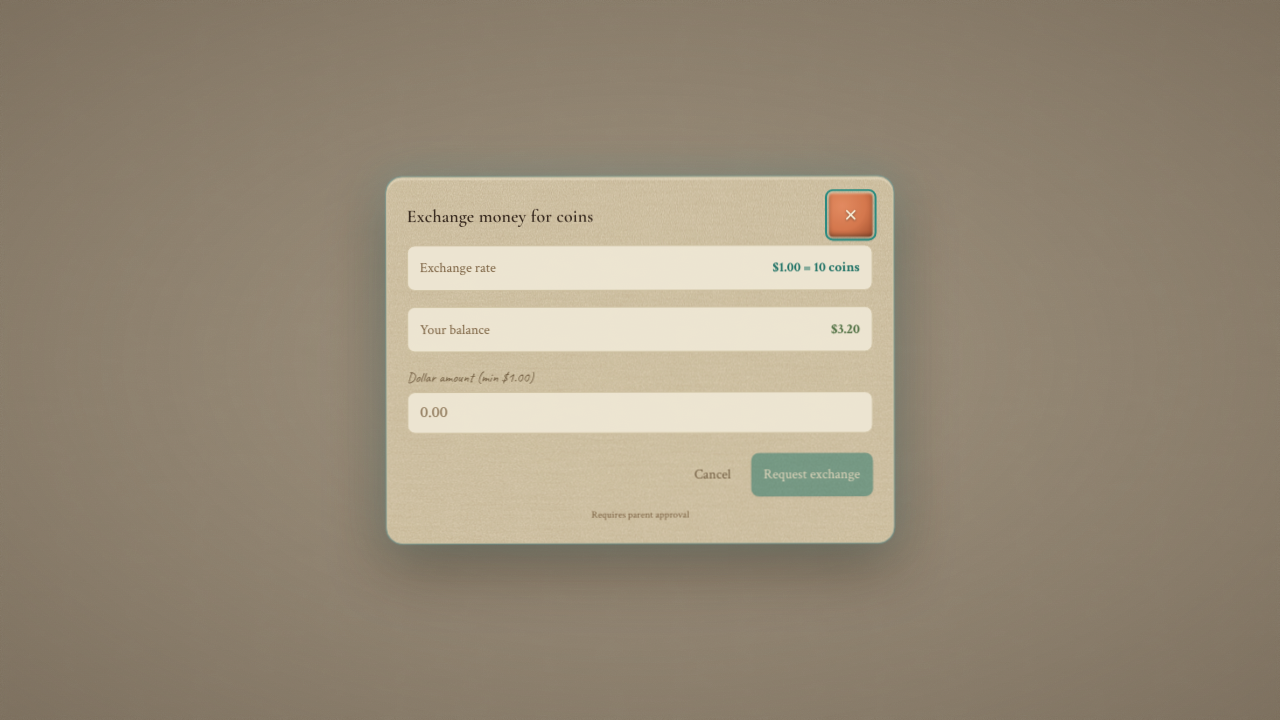
Scenario: CoinExchangeModal › explains why the request button is disabled
Expected: the text "$3.20" is shown, [831,319,860,339]
In the number field: x=640, y=413 [407,391,873,434], type "9"
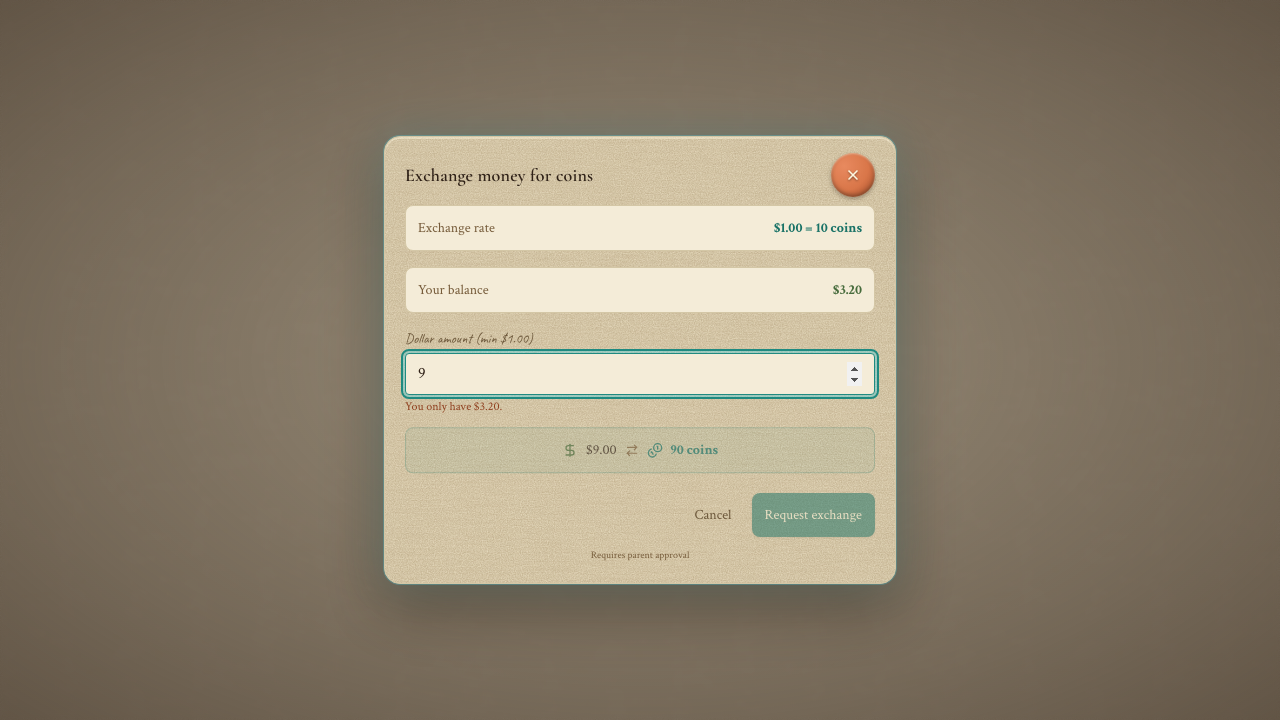
Expected: the button "Request exchange" is disabled, [752,493,875,537]
Expected: the text "You only have $3.20." is shown, [405,399,502,414]
Clear the number field: x=640, y=374 [405,353,875,395]
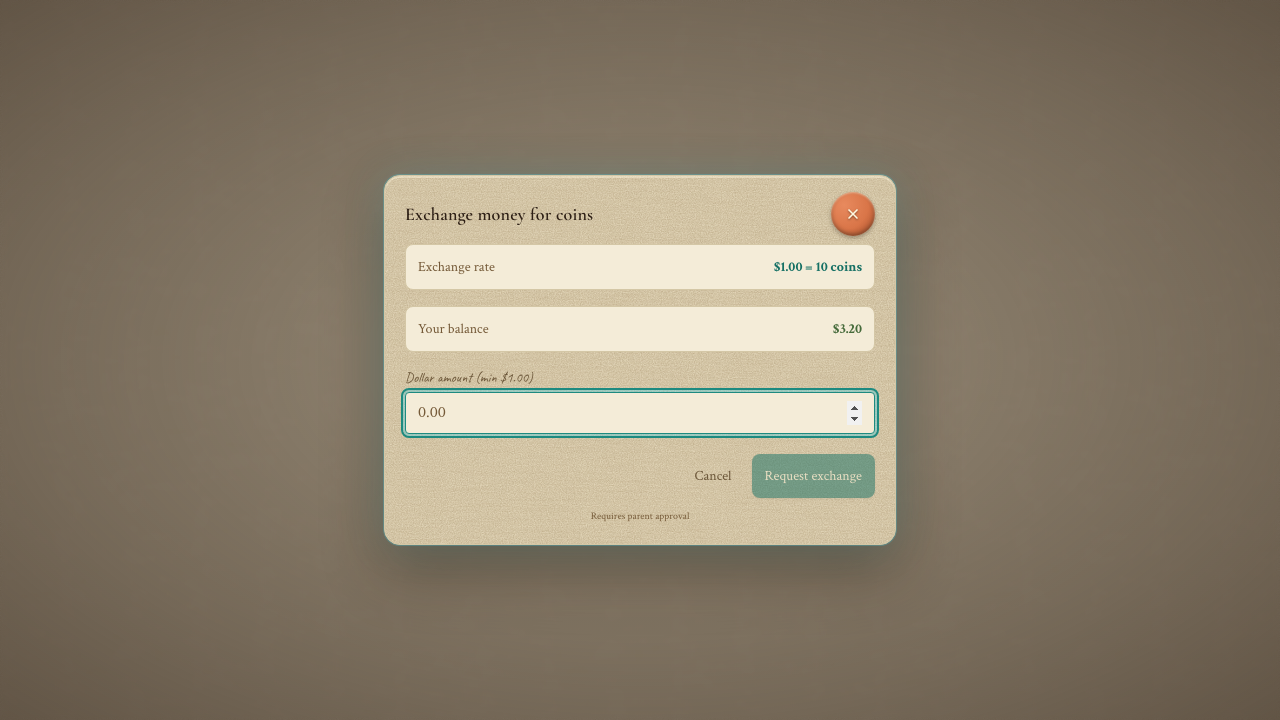
In the number field: x=640, y=413 [405,392,875,434], type "0.5"
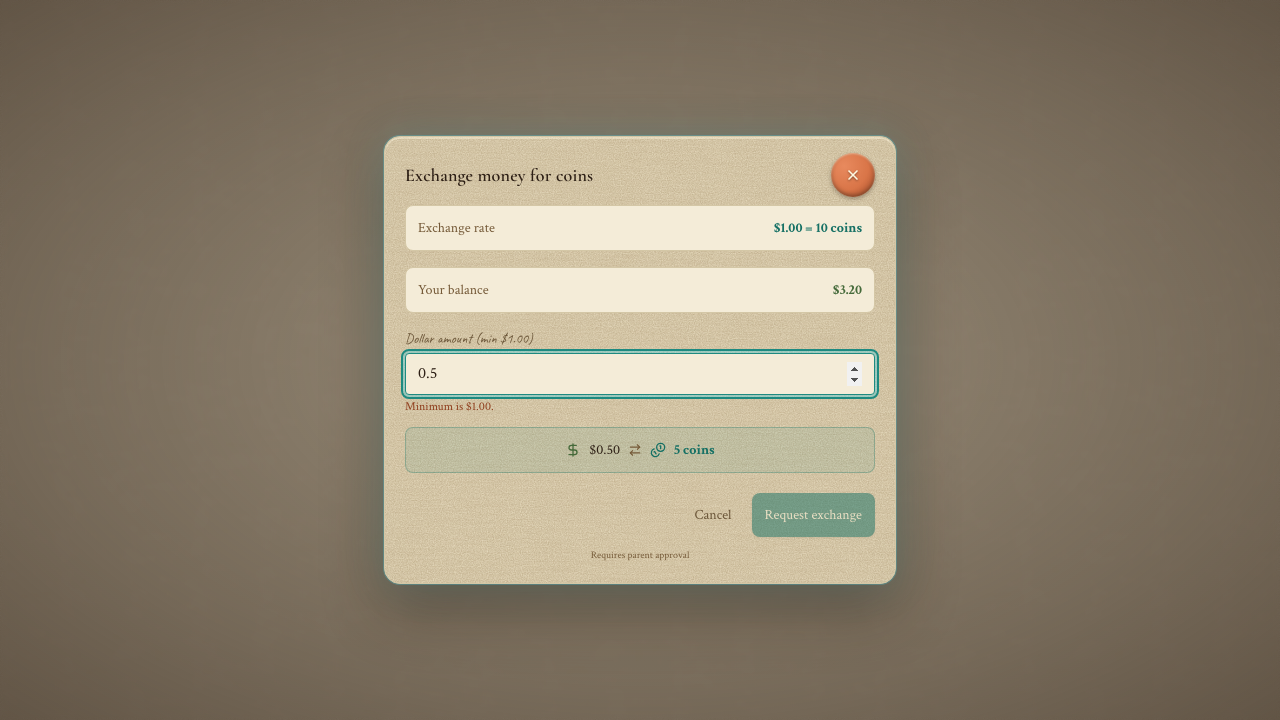
Expected: the text "Minimum is $1.00." is shown, [405,399,494,414]
